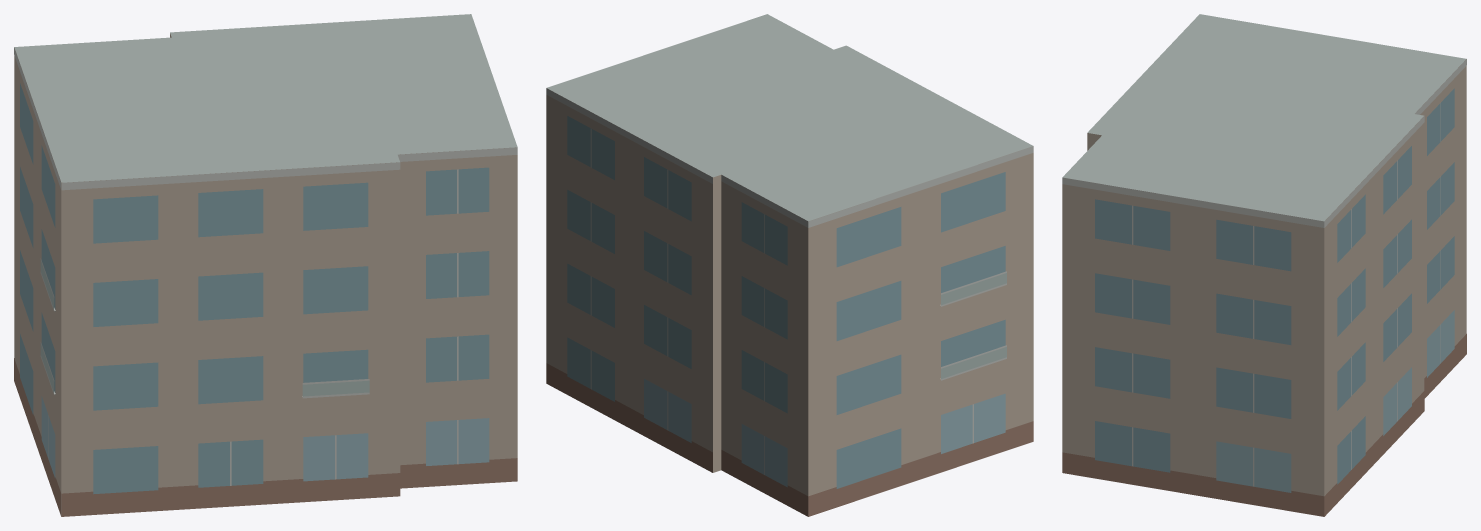
The model's file is survey-upis-32537201.glb.
3 renders of one model, left to right at view 1: azimuth 30°, elevation 25°; view 2: azimuth 150°, elevation 25°; view 3: azimuth 270°, elevation 25°, orthographic. The views are drawn at different scales.
Parts seen in each view (by area): view 1: survey-upis-32537201.tmp; view 2: survey-upis-32537201.tmp; view 3: survey-upis-32537201.tmp.
Boxes of the visible parts, x1,y1,x2,y2 form: survey-upis-32537201.tmp: (14, 14, 517, 516); survey-upis-32537201.tmp: (546, 14, 1033, 516); survey-upis-32537201.tmp: (1062, 14, 1466, 516).
Bounding box in the file's own units: 16.26 × 10.8 × 13.4.
